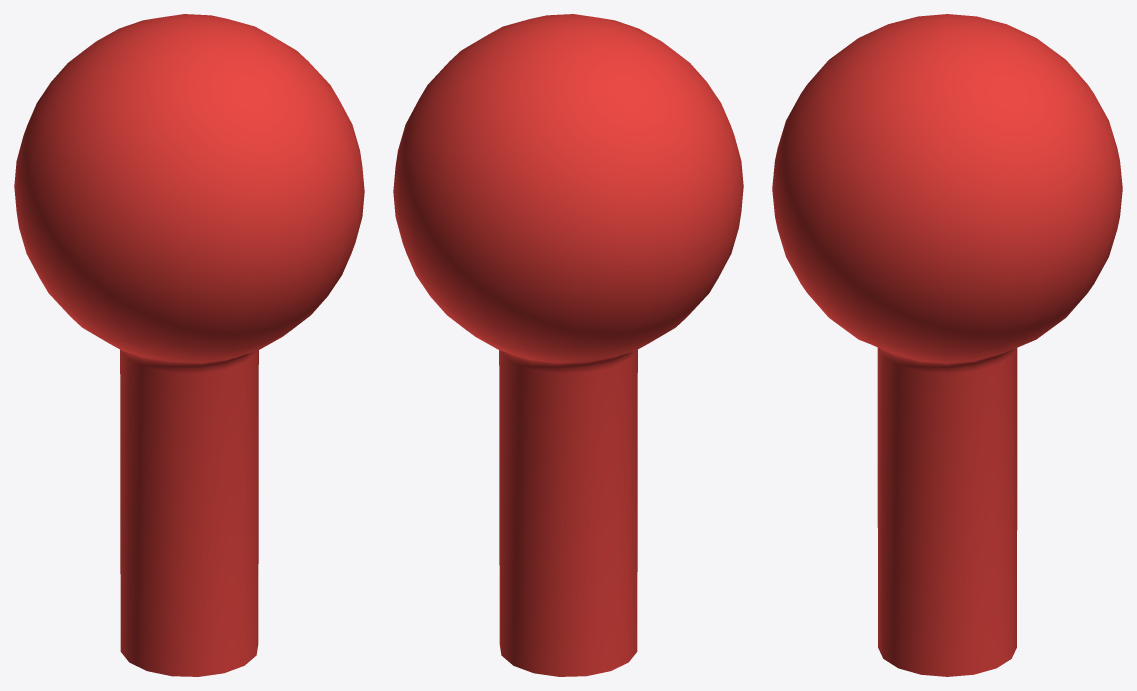
File: joystick.glb
3 views of the same model, side by side, from view 1: azimuth 30°, elevation 25°; view 2: azimuth 150°, elevation 25°; view 3: azimuth 270°, elevation 25° (orthographic).
Parts seen in each view (by area): view 1: joystick; view 2: joystick; view 3: joystick.
Boxes of the visible parts, left/top/right/bottom form: joystick: left=14, top=14, right=364, bottom=676; joystick: left=393, top=14, right=743, bottom=676; joystick: left=772, top=14, right=1122, bottom=676.
Bounding box in the file's own units: 0.0421 × 0.0818 × 0.0421.
